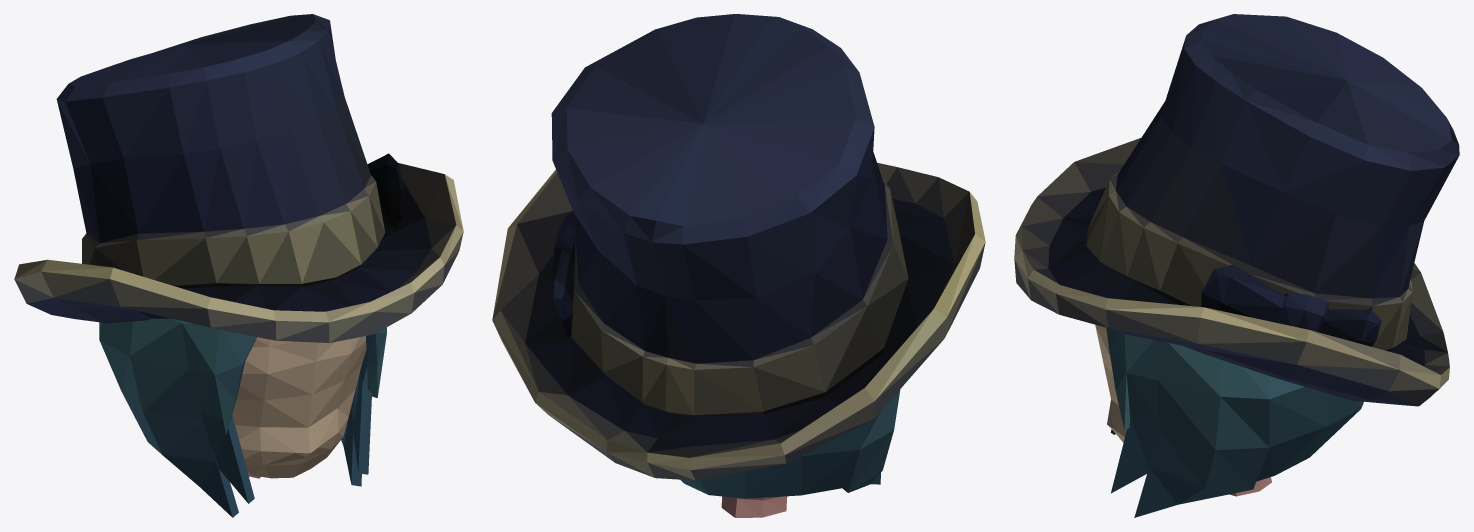
The model's file is helm_lightskin_bob_blue_tophat.fbx.
3 renders of one model, left to right at view 1: azimuth 30°, elevation 25°; view 2: azimuth 150°, elevation 25°; view 3: azimuth 270°, elevation 25°, orthographic. The views are drawn at different scales.
Parts seen in each view (by area): view 1: helm_lightskin_bob_blue_tophat; view 2: helm_lightskin_bob_blue_tophat; view 3: helm_lightskin_bob_blue_tophat.
Part boxes in pixels (x1,y1,x2,y2): helm_lightskin_bob_blue_tophat: (14, 14, 463, 517); helm_lightskin_bob_blue_tophat: (492, 14, 985, 517); helm_lightskin_bob_blue_tophat: (1014, 14, 1459, 517).
Size of the model in its own units: 1.68 by 1.83 by 1.64.
